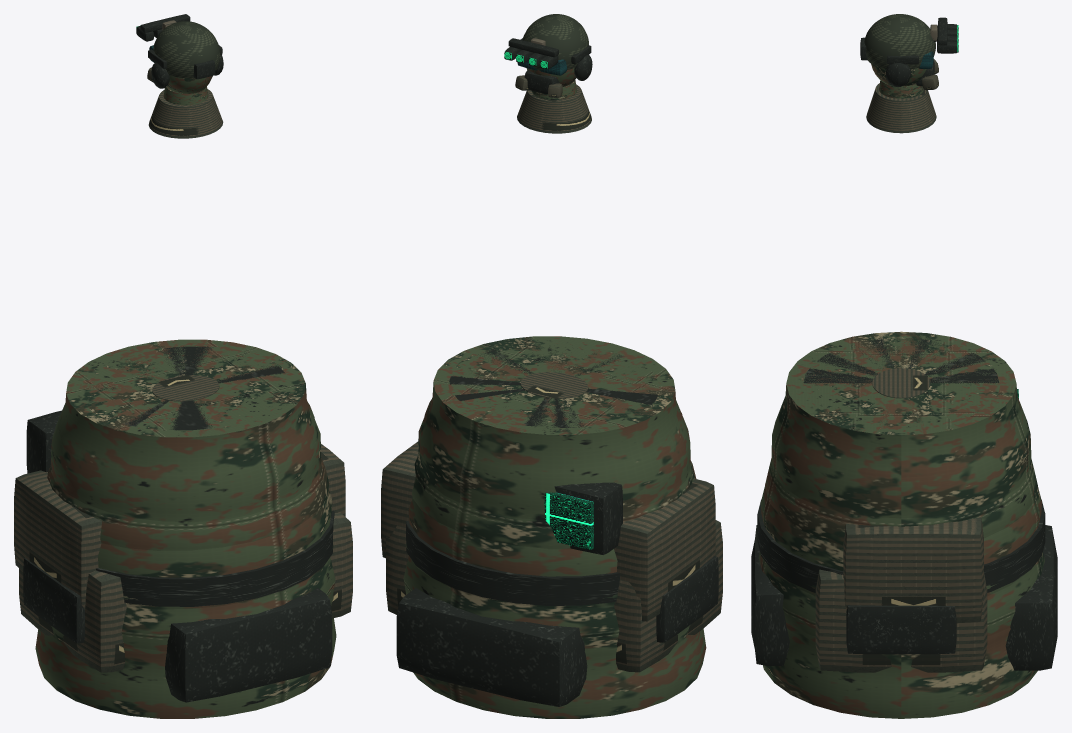
Rendered from player_kit_camo_pcvr.glb.
The picture shows the model from 3 angles, left to right: view 1: azimuth 30°, elevation 25°; view 2: azimuth 150°, elevation 25°; view 3: azimuth 270°, elevation 25°; orthographic projection.
Visible parts, largest first — view 1: LThigh, LForearm, LUpperArm, AvatarHead, RUpperArm, LShin, Jacket, RThigh; view 2: LThigh, LUpperArm, LShin, LForearm, AvatarHead, RThigh, RUpperArm, Jacket; view 3: LThigh, LUpperArm, RThigh, LForearm, RUpperArm, AvatarHead, LShin, Jacket.
Part boxes in pixels (x1,y1,x2,y2): LThigh: [14, 339, 336, 718]; LForearm: [26, 346, 332, 702]; LUpperArm: [19, 341, 333, 672]; AvatarHead: [136, 14, 223, 138]; RUpperArm: [330, 512, 352, 618]; LShin: [103, 346, 277, 430]; Jacket: [152, 375, 219, 401]; RThigh: [321, 444, 345, 516]; LThigh: [403, 336, 715, 718]; LUpperArm: [405, 338, 722, 672]; LShin: [396, 343, 658, 706]; LForearm: [447, 342, 657, 554]; AvatarHead: [504, 14, 592, 133]; RThigh: [381, 441, 418, 558]; RUpperArm: [386, 525, 408, 614]; Jacket: [520, 372, 588, 398]; LThigh: [757, 331, 1045, 718]; LUpperArm: [765, 334, 1037, 659]; RThigh: [843, 517, 983, 623]; LForearm: [751, 337, 1018, 665]; RUpperArm: [815, 569, 987, 672]; AvatarHead: [860, 14, 958, 133]; LShin: [803, 339, 1057, 670]; Jacket: [872, 368, 930, 398].
Bounding box in the file's own units: 1.04 × 2.3 × 1.
Materials: 1 (1 with a texture image).
